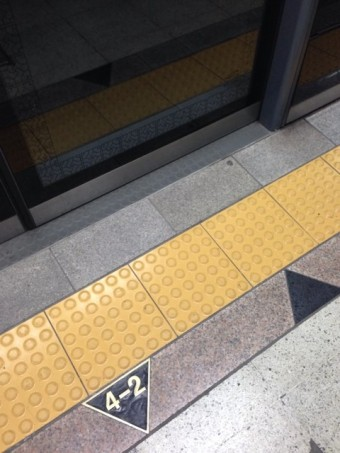warningBlock: (135, 228, 250, 321), (56, 291, 171, 376), (207, 191, 308, 270), (9, 323, 84, 422), (279, 162, 340, 243)
